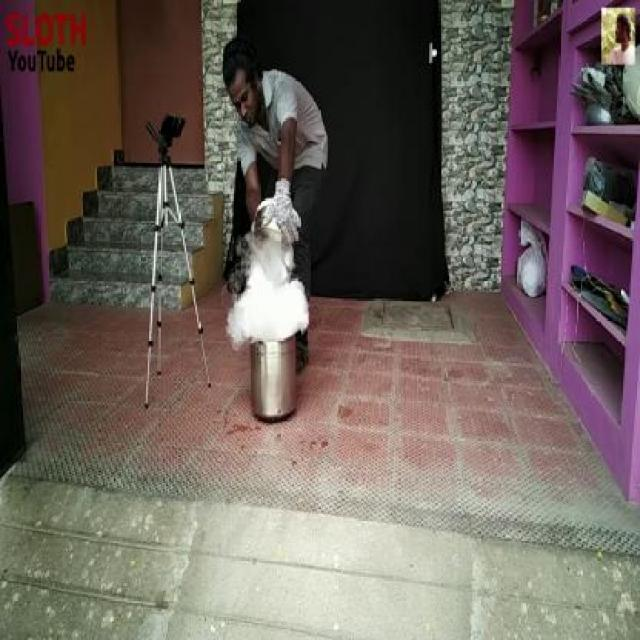smoke: (229, 249, 308, 331)
